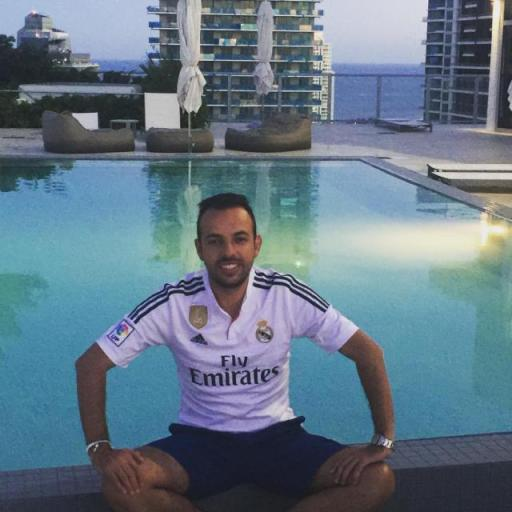Adidas: (188, 332, 210, 346)
Emirates: (188, 350, 282, 390)
